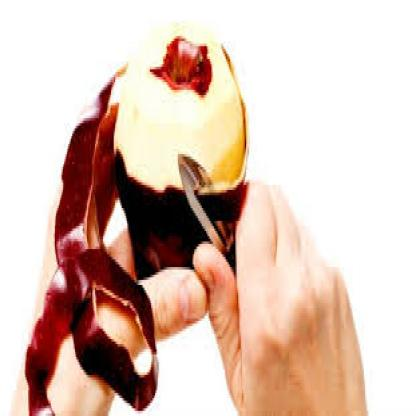Disposable tableware: (32, 28, 308, 416)
